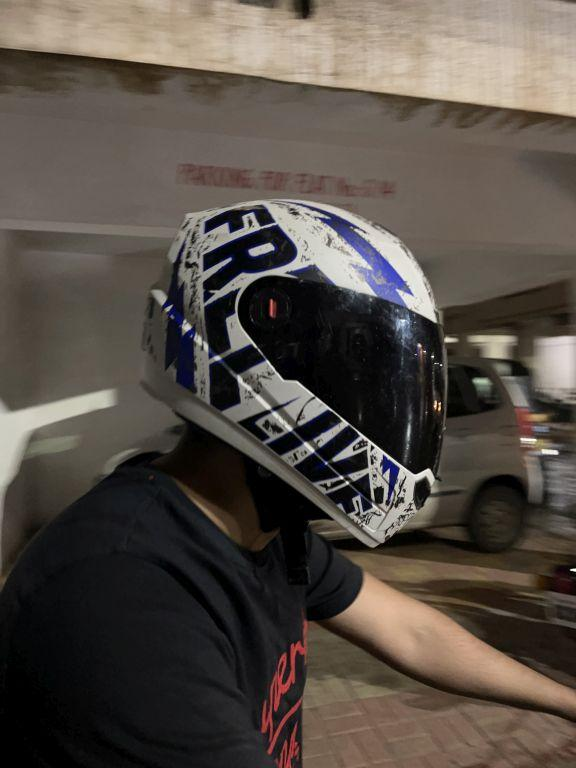helmet: (129, 180, 449, 562)
